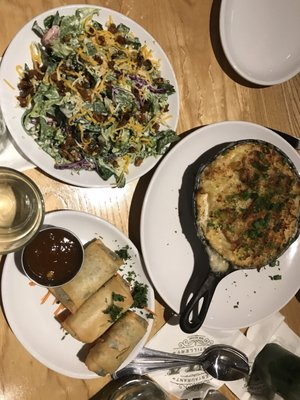salad: (139, 344, 250, 382)
